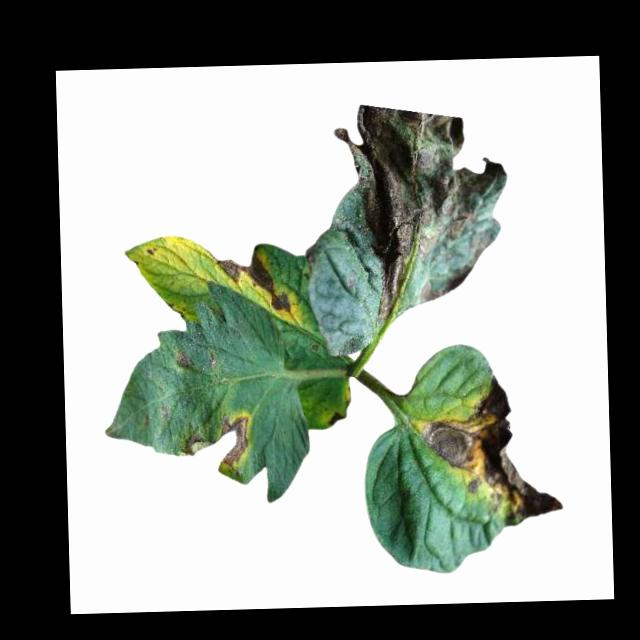Early_blight: (332, 99, 512, 324), (417, 373, 564, 531), (214, 245, 292, 314), (180, 410, 252, 470), (173, 352, 193, 375), (324, 412, 347, 425), (305, 246, 316, 271)
